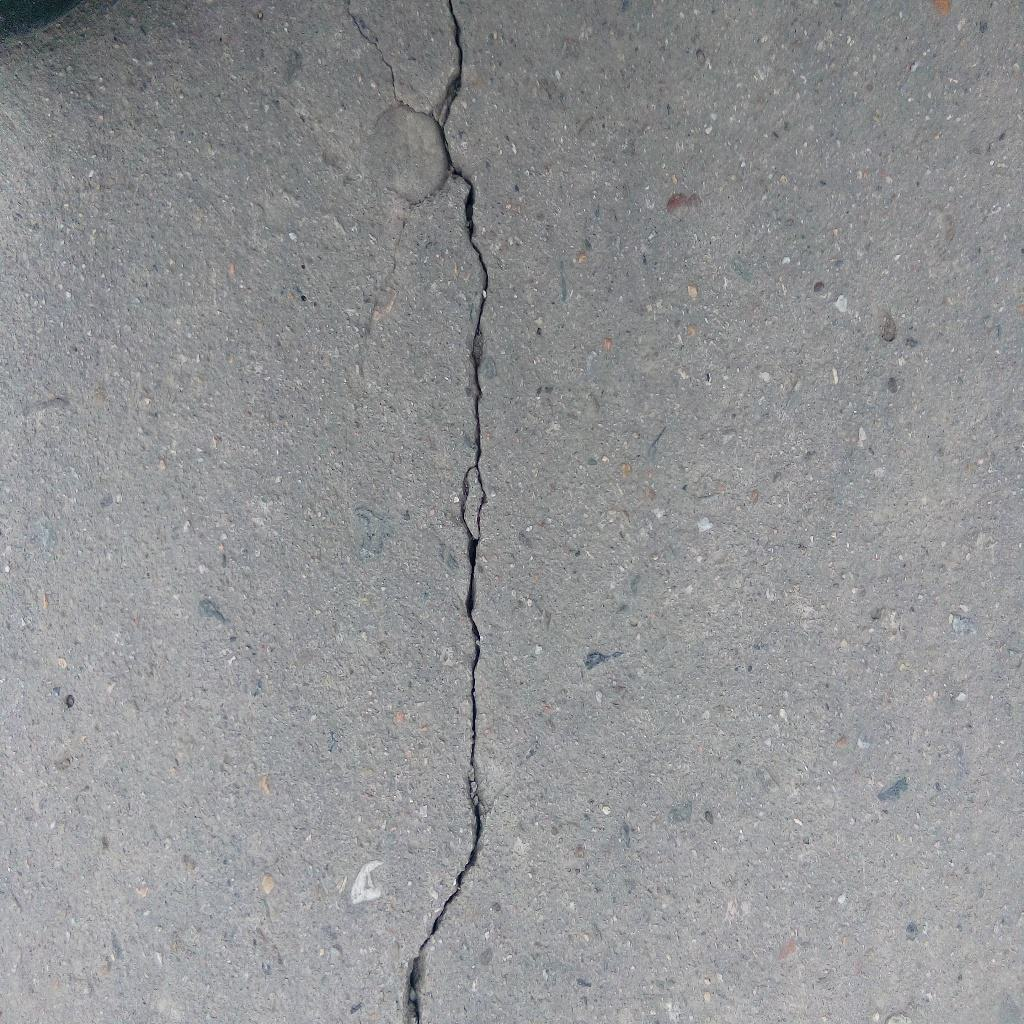Crack: (406, 1, 491, 1024)
